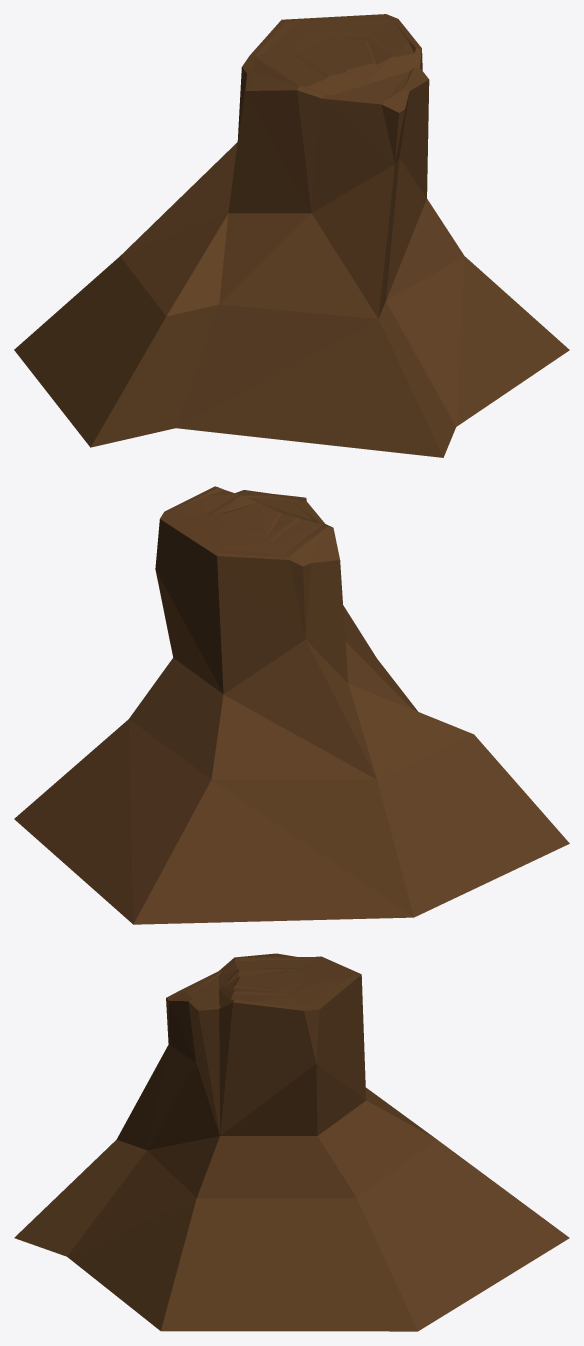
Rendered from tree-oak-stump-a.gltf.
3 views of the same model, one above another, from view 1: azimuth 30°, elevation 25°; view 2: azimuth 150°, elevation 25°; view 3: azimuth 270°, elevation 25° (orthographic). The views are drawn at different scales.
Parts seen in each view (by area): view 1: tree-oak-stump-a; view 2: tree-oak-stump-a; view 3: tree-oak-stump-a.
Boxes of the visible parts, bbox=[...] form: tree-oak-stump-a: bbox=[14, 14, 569, 457]; tree-oak-stump-a: bbox=[14, 486, 569, 924]; tree-oak-stump-a: bbox=[14, 953, 569, 1331].
Bounding box in the file's own units: 0.0168 × 0.0105 × 0.0189.
